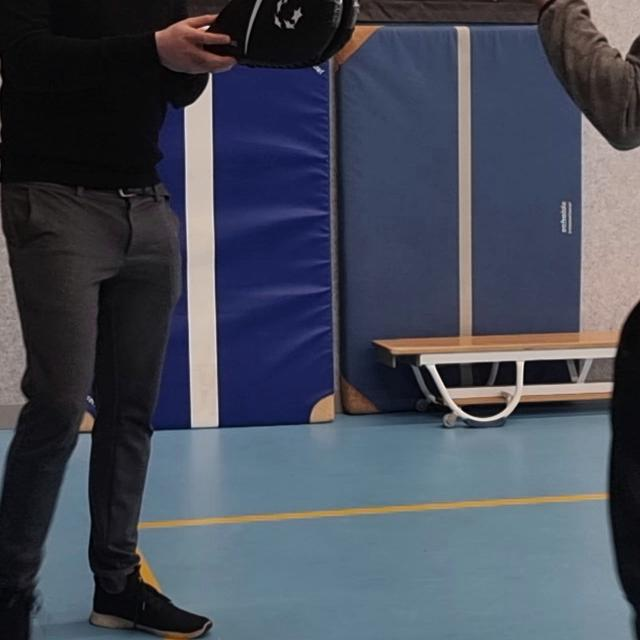paddle: (202, 0, 357, 68)
